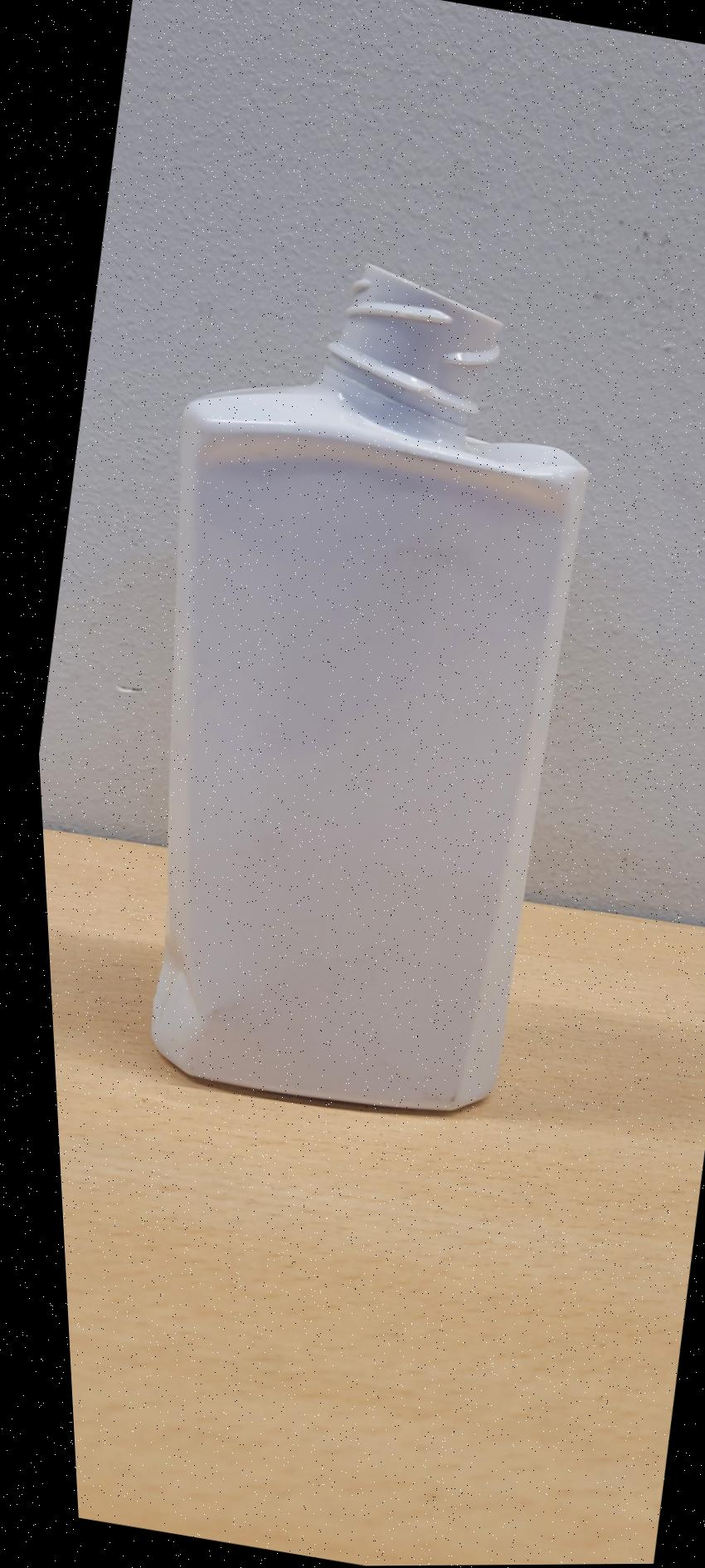bottle: (151, 264, 587, 1111)
